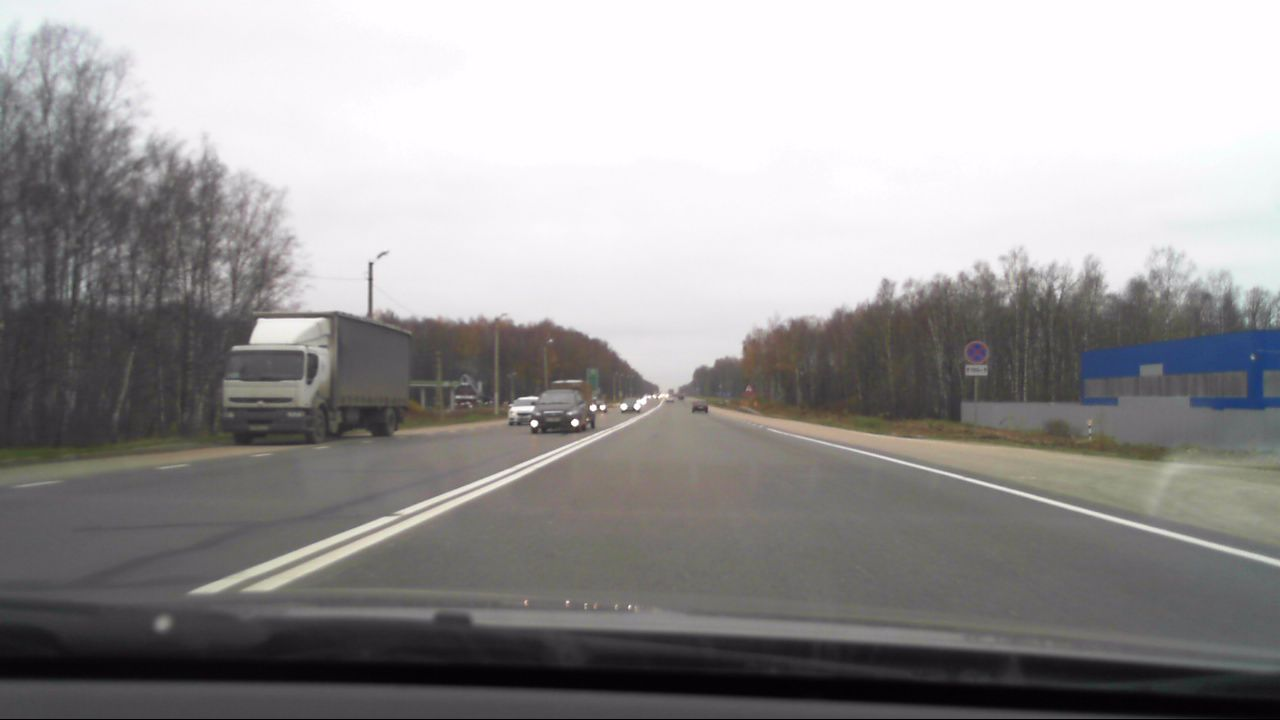No Parking: (960, 340, 993, 364)
